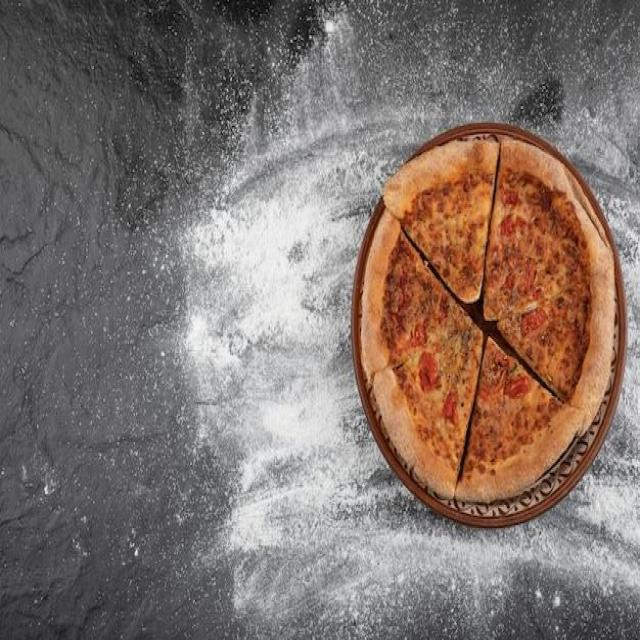pizza: (358, 136, 623, 503)
